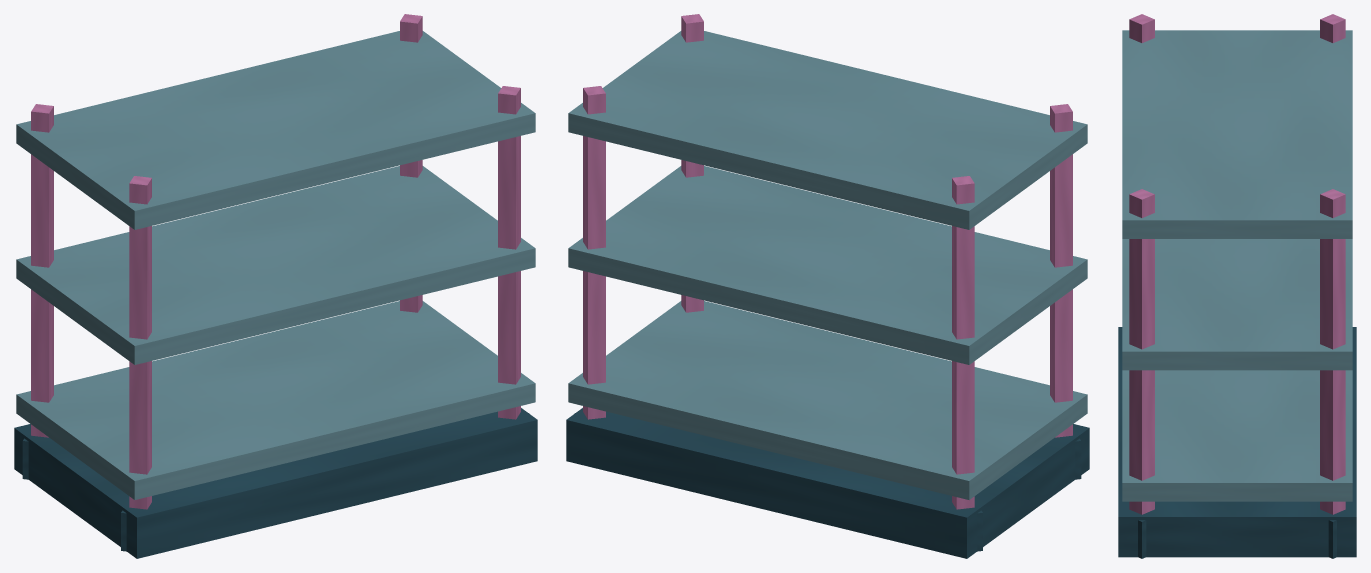
The model's file is atlas100-s065-a06.lod2.glb.
3 views of the same model, side by side, from view 1: azimuth 30°, elevation 25°; view 2: azimuth 150°, elevation 25°; view 3: azimuth 270°, elevation 25° (orthographic). The views are drawn at different scales.
Visible parts, largest first — view 1: atlas100-s065-a06:part-013, atlas100-s065-a06:part-012, atlas100-s065-a06:part-011, atlas100-s065-a06:part-000, atlas100-s065-a06:part-005, atlas100-s065-a06:part-009, atlas100-s065-a06:part-003, atlas100-s065-a06:part-007; view 2: atlas100-s065-a06:part-013, atlas100-s065-a06:part-012, atlas100-s065-a06:part-011, atlas100-s065-a06:part-000, atlas100-s065-a06:part-003, atlas100-s065-a06:part-007, atlas100-s065-a06:part-005, atlas100-s065-a06:part-009; view 3: atlas100-s065-a06:part-013, atlas100-s065-a06:part-012, atlas100-s065-a06:part-011, atlas100-s065-a06:part-000, atlas100-s065-a06:part-007, atlas100-s065-a06:part-009, atlas100-s065-a06:part-003, atlas100-s065-a06:part-005, atlas100-s065-a06:part-008, atlas100-s065-a06:part-010.
Boxes of the visible parts, bbox=[...] form: atlas100-s065-a06:part-013: bbox=[16, 31, 535, 229]; atlas100-s065-a06:part-012: bbox=[16, 166, 535, 364]; atlas100-s065-a06:part-011: bbox=[16, 301, 535, 499]; atlas100-s065-a06:part-000: bbox=[14, 408, 537, 558]; atlas100-s065-a06:part-005: bbox=[129, 176, 151, 509]; atlas100-s065-a06:part-009: bbox=[498, 86, 520, 419]; atlas100-s065-a06:part-003: bbox=[31, 104, 53, 437]; atlas100-s065-a06:part-007: bbox=[400, 14, 422, 312]; atlas100-s065-a06:part-013: bbox=[568, 31, 1087, 229]; atlas100-s065-a06:part-012: bbox=[568, 166, 1087, 364]; atlas100-s065-a06:part-011: bbox=[568, 301, 1087, 499]; atlas100-s065-a06:part-000: bbox=[566, 408, 1089, 558]; atlas100-s065-a06:part-003: bbox=[952, 176, 974, 509]; atlas100-s065-a06:part-007: bbox=[583, 86, 605, 419]; atlas100-s065-a06:part-005: bbox=[1050, 104, 1072, 437]; atlas100-s065-a06:part-009: bbox=[681, 14, 703, 312]; atlas100-s065-a06:part-013: bbox=[1122, 30, 1352, 238]; atlas100-s065-a06:part-012: bbox=[1122, 239, 1352, 370]; atlas100-s065-a06:part-011: bbox=[1122, 370, 1352, 501]; atlas100-s065-a06:part-000: bbox=[1118, 327, 1356, 557]; atlas100-s065-a06:part-007: bbox=[1320, 189, 1345, 514]; atlas100-s065-a06:part-009: bbox=[1129, 189, 1154, 514]; atlas100-s065-a06:part-003: bbox=[1320, 14, 1345, 42]; atlas100-s065-a06:part-005: bbox=[1129, 14, 1154, 42]; atlas100-s065-a06:part-008: bbox=[1328, 520, 1336, 558]; atlas100-s065-a06:part-010: bbox=[1138, 520, 1146, 558].
Bounding box in the file's own units: 2.69 × 2.3 × 1.4.
3 materials, 3 textured.
